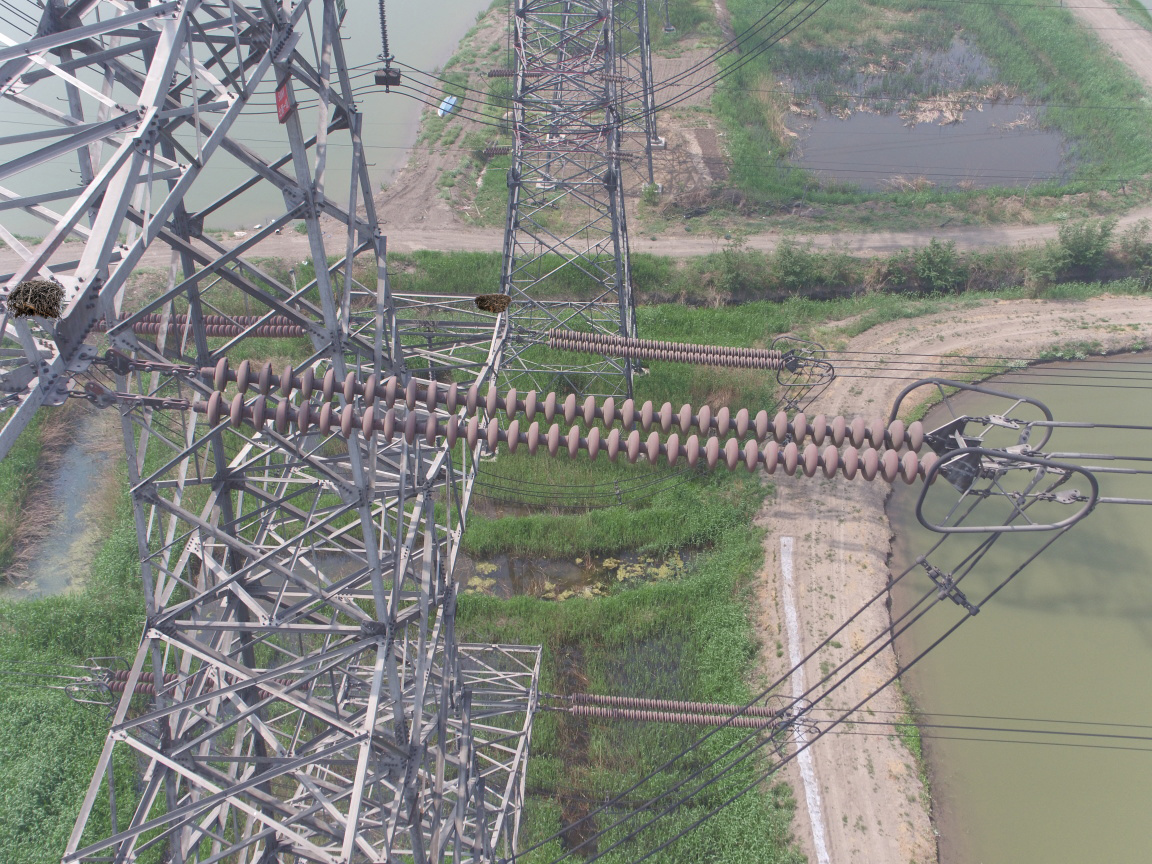nest: (9, 278, 64, 317), (472, 290, 514, 316)
